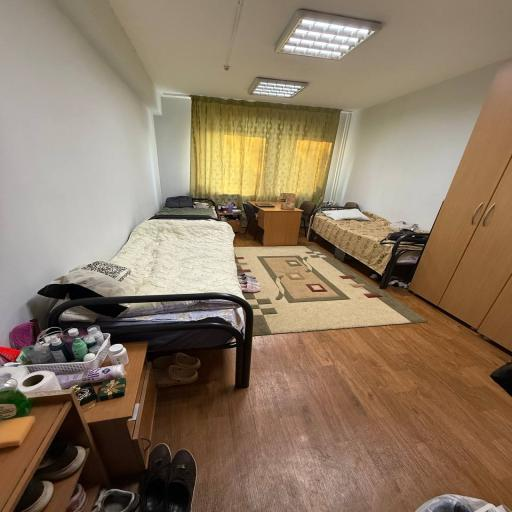bench: (227, 202, 233, 214), (217, 202, 222, 211)
car: (411, 64, 511, 347)
door: (490, 361, 512, 395), (166, 196, 193, 207)
glass_wall: (256, 204, 275, 207)
person: (48, 218, 252, 387), (309, 208, 427, 275), (152, 198, 218, 218)
